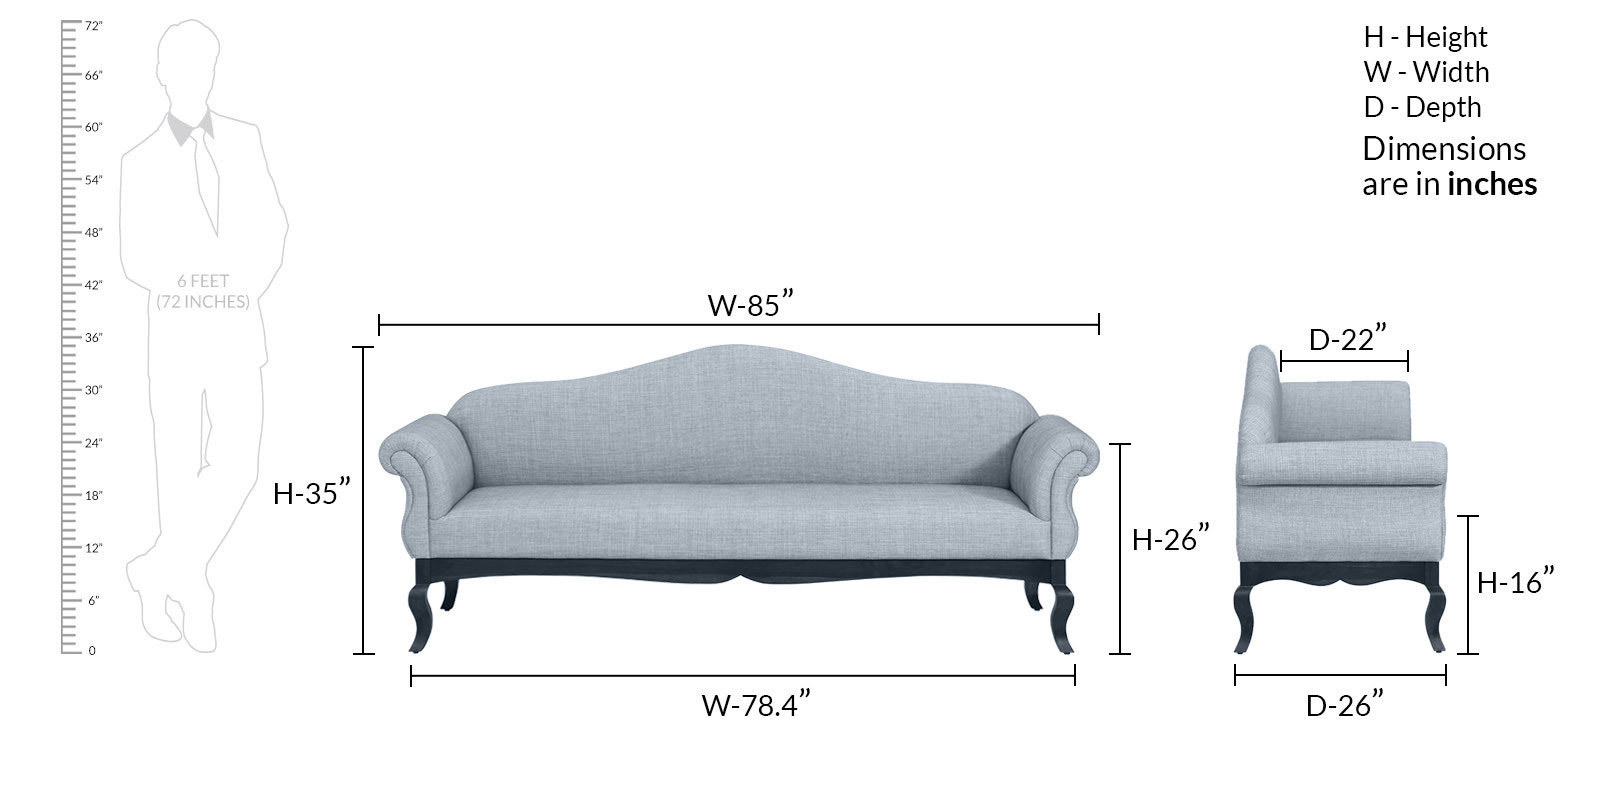Anne Three Seater Sofa in Warm Chestnut Finish by Amberville: (381, 343, 1092, 662), (1223, 339, 1454, 670)
